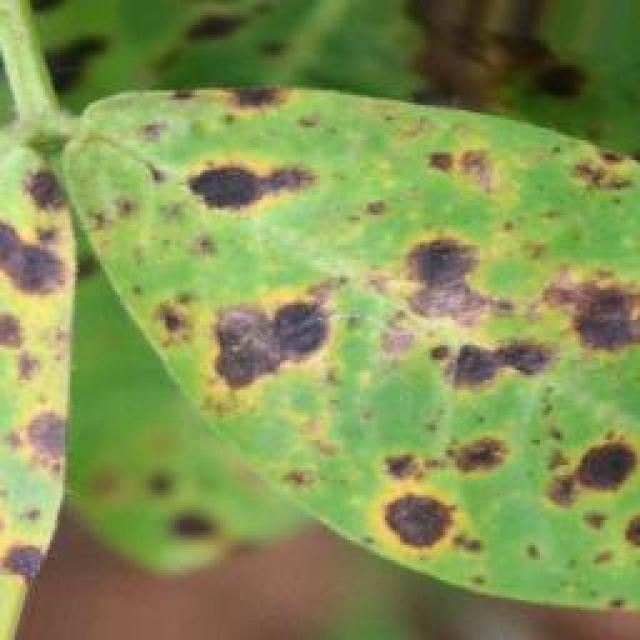Yellowish: (15, 63, 640, 585)
